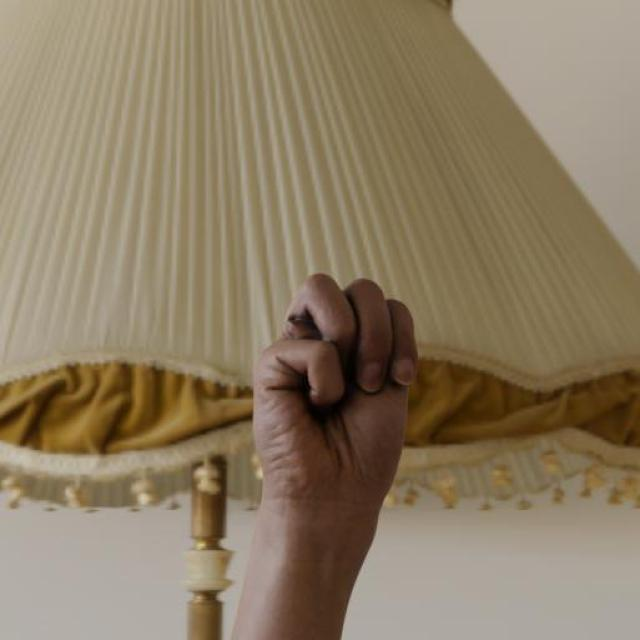M: (248, 272, 421, 514)
